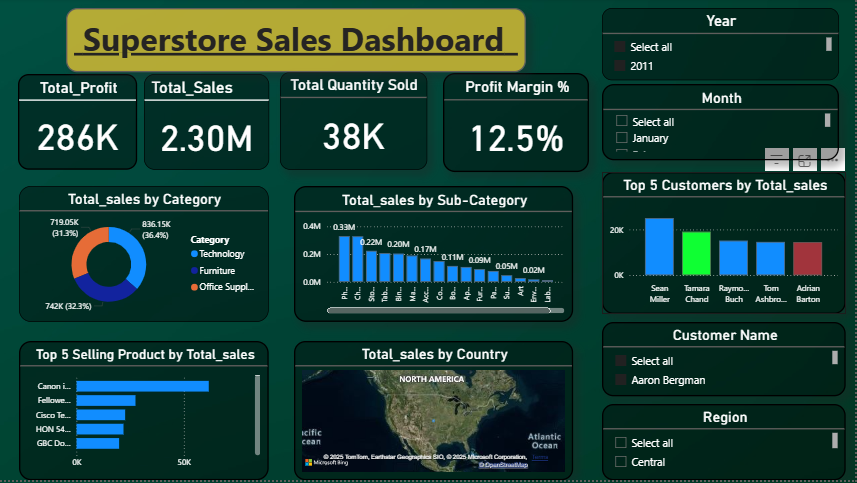

This screenshot's page, from the dashboard's own definition file:
{"tool":"powerbi","page":{"name":"Page 1","canvas":[1280,720],"ordinal":0},"visuals":[{"type":"card","title":"Total_Profit","fields":{"Values":["Orders.Total_profit"]},"box":[28.4,113.5,177.8,143.4],"z":0},{"type":"card","title":"Total_Sales","fields":{"Values":["Orders.Total_sales"]},"box":[216.6,113.5,186.7,143.4],"z":1000},{"type":"card","title":"Total Quantity Sold","fields":{"Values":["Orders.Total_Quantity_sold"]},"box":[419.8,110.5,219.6,146.4],"z":2000},{"type":"card","title":"Profit Margin %","fields":{"Values":["Orders.Profit_Margin_%"]},"box":[663.2,112,218.1,147.9],"z":3000},{"type":"donutChart","fields":{"Category":["Orders.Category"],"Y":["Orders.Total_sales"]},"box":[29.9,280.8,373.4,203.2],"z":4000},{"type":"columnChart","fields":{"Category":["Orders.Sub-Category"],"Y":["Orders.Total_sales"]},"box":[440.7,280.8,416.8,203.2],"z":5000},{"type":"barChart","title":"Top 5 Selling Product by Total_sales ","fields":{"Category":["Orders.Product Name"],"Y":["Orders.Total_sales"]},"box":[29.9,512.4,373.4,207.6],"z":6000},{"type":"columnChart","title":"Top 5 Customers by Total_sales","fields":{"Y":["Orders.Total_sales"],"Category":["Orders.Customer Name"]},"box":[900.7,259.9,364.5,212.1],"z":7000},{"type":"map","fields":{"Category":["Orders.Country"]},"box":[440.7,512.4,416.8,207.6],"z":8000},{"type":"slicer","title":"Customer Name","fields":{"Values":["Orders.Customer Name"]},"box":[900.7,484,364.5,110.5],"z":8001},{"type":"slicer","title":"Region","fields":{"Values":["People.Region"]},"box":[900.7,606.5,364.5,113.5],"z":8002},{"type":"slicer","title":"Month","fields":{"Values":["Orders.Ship Date.Variation.Date Hierarchy.Month"]},"box":[900.7,128.5,354,113.5],"z":8003},{"type":"slicer","title":"Year","fields":{"Values":["Orders.Ship Date.Variation.Date Hierarchy.Year"]},"box":[900.7,14.9,354,107.6],"z":8004},{"type":"textbox","box":[100.1,14.9,687.1,95.6],"z":8005}]}

Visuals, with their boxes in screenshot pixels (x1, y1, x2, y2), scaled from the page's 1280x720 canvas onto the 857x483 screenshot:
"Total_Profit" card: bbox=(19, 76, 138, 172)
"Total_Sales" card: bbox=(145, 76, 270, 172)
"Total Quantity Sold" card: bbox=(281, 74, 428, 172)
"Profit Margin %" card: bbox=(444, 75, 590, 174)
donutChart - Orders.Category x Orders.Total_sales: bbox=(20, 188, 270, 325)
columnChart - Orders.Sub-Category x Orders.Total_sales: bbox=(295, 188, 574, 325)
"Top 5 Selling Product by Total_sales " barChart: bbox=(20, 344, 270, 482)
"Top 5 Customers by Total_sales" columnChart: bbox=(603, 174, 847, 317)
map - Orders.Country: bbox=(295, 344, 574, 482)
"Customer Name" slicer: bbox=(603, 325, 847, 399)
"Region" slicer: bbox=(603, 407, 847, 482)
"Month" slicer: bbox=(603, 86, 840, 162)
"Year" slicer: bbox=(603, 10, 840, 82)
textbox: bbox=(67, 10, 527, 74)
